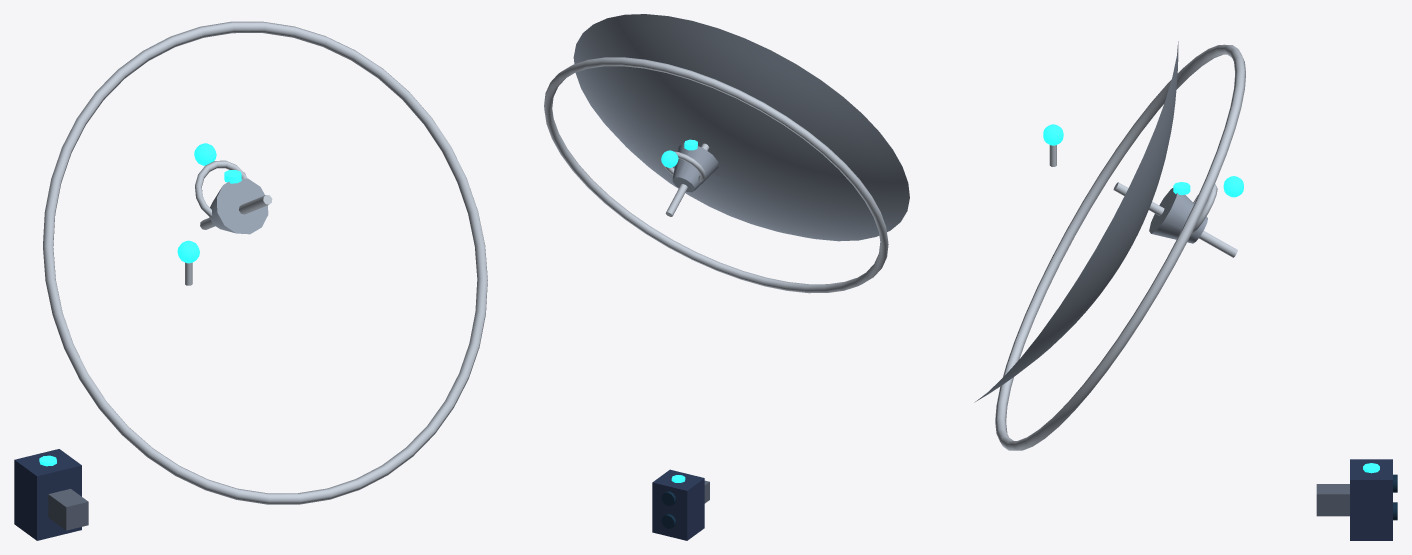
File: tower_skywatch_range_s5.glb
3 views of the same model, side by side, from view 1: azimuth 30°, elevation 25°; view 2: azimuth 150°, elevation 25°; view 3: azimuth 270°, elevation 25° (orthographic). The views are drawn at different scales.
Parts seen in each view (by area): view 1: skywatch_wide_rim, skywatch_sensor_cluster, skywatch_feed_horn, skywatch_sensor_mount, skywatch_feed_horn_ring; view 2: skywatch_wide_dish, skywatch_wide_rim, skywatch_sensor_cluster, skywatch_feed_horn; view 3: skywatch_wide_rim, skywatch_wide_dish, skywatch_sensor_cluster, skywatch_feed_horn, skywatch_sensor_mount, skywatch_wide_feed_arm.
Boxes of the visible parts, x1,y1,x2,y2 form: skywatch_wide_rim: (43, 21, 487, 504); skywatch_sensor_cluster: (14, 449, 81, 540); skywatch_feed_horn: (209, 178, 268, 234); skywatch_sensor_mount: (48, 488, 88, 530); skywatch_feed_horn_ring: (195, 160, 247, 218); skywatch_wide_dish: (573, 14, 909, 241); skywatch_wide_rim: (544, 57, 888, 293); skywatch_sensor_cluster: (652, 469, 704, 540); skywatch_feed_horn: (672, 143, 718, 192); skywatch_wide_rim: (995, 44, 1245, 450); skywatch_wide_dish: (974, 41, 1178, 402); skywatch_sensor_cluster: (1350, 459, 1392, 540); skywatch_feed_horn: (1149, 188, 1207, 243); skywatch_sensor_mount: (1316, 484, 1349, 516); skywatch_wide_feed_arm: (1113, 182, 1237, 257).
Size of the model in its own units: 1.52 by 1.91 by 1.5.
